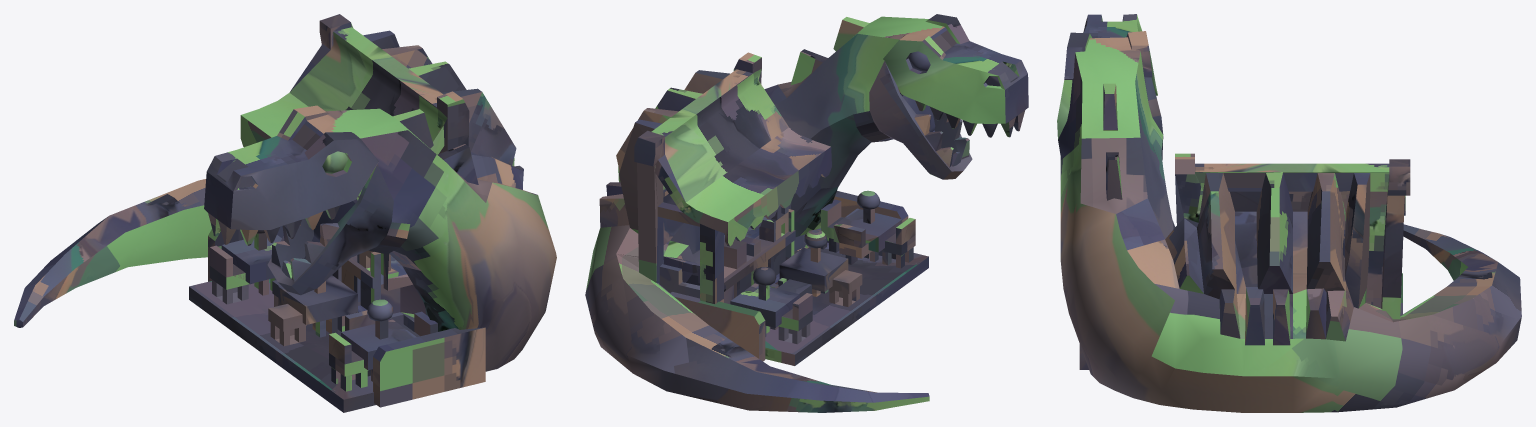
Rendered from bldg_konglong_mod.fbx.
3 renders of one model, left to right at view 1: azimuth 30°, elevation 25°; view 2: azimuth 150°, elevation 25°; view 3: azimuth 270°, elevation 25°, orthographic. The views are drawn at different scales.
Visible parts, largest first — view 1: bldg_konglong_mod; view 2: bldg_konglong_mod; view 3: bldg_konglong_mod.
Boxes of the visible parts, x1,y1,x2,y2 form: bldg_konglong_mod: (14, 14, 556, 412); bldg_konglong_mod: (585, 14, 1028, 412); bldg_konglong_mod: (1057, 14, 1521, 412).
Bounding box in the file's own units: 5.8 × 3.76 × 5.83.
